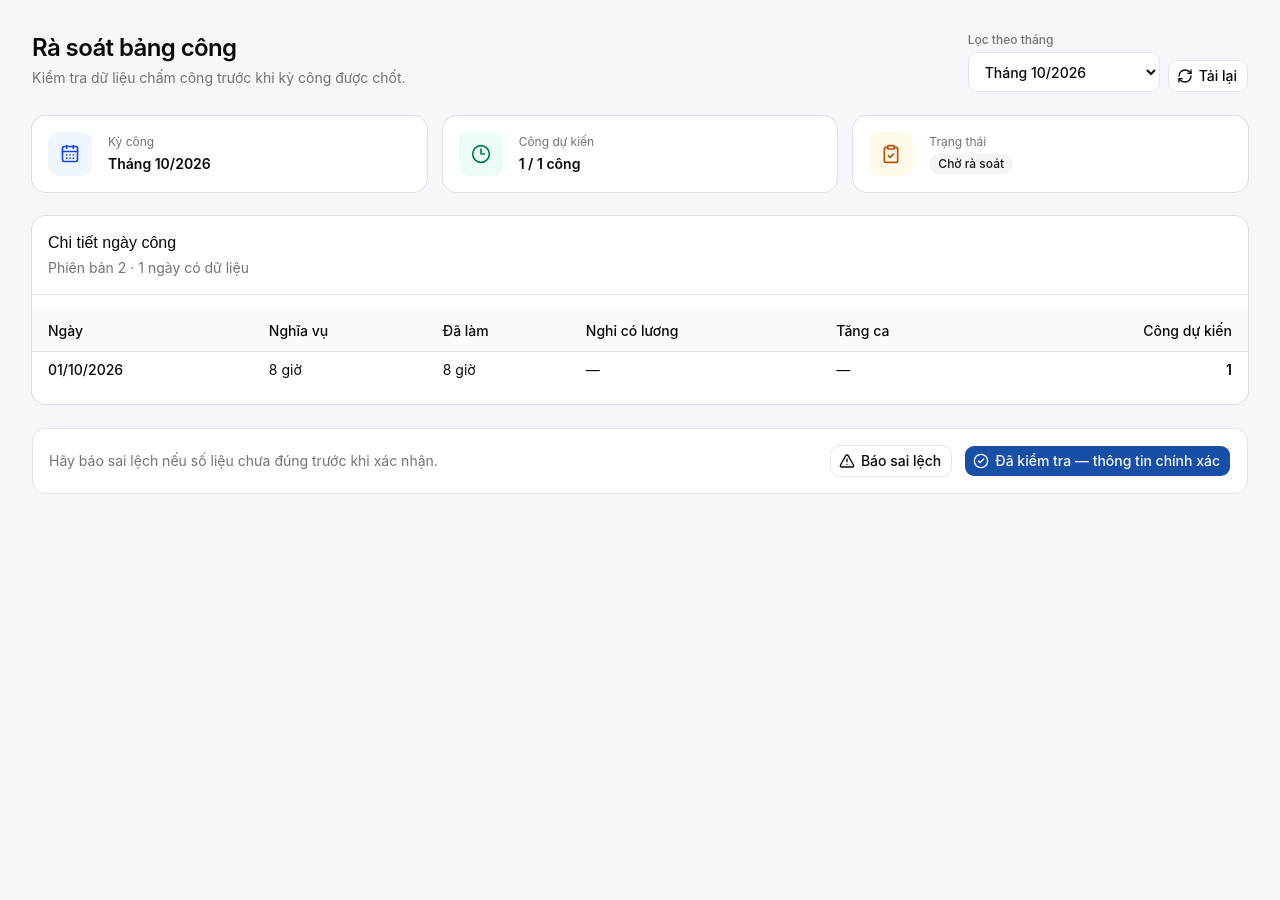
submits the reviewed version when the employee confirms
Click the button "Đã kiểm tra — thông tin chính xác": (1098, 460) x1=964 y1=444 x2=1231 y2=476
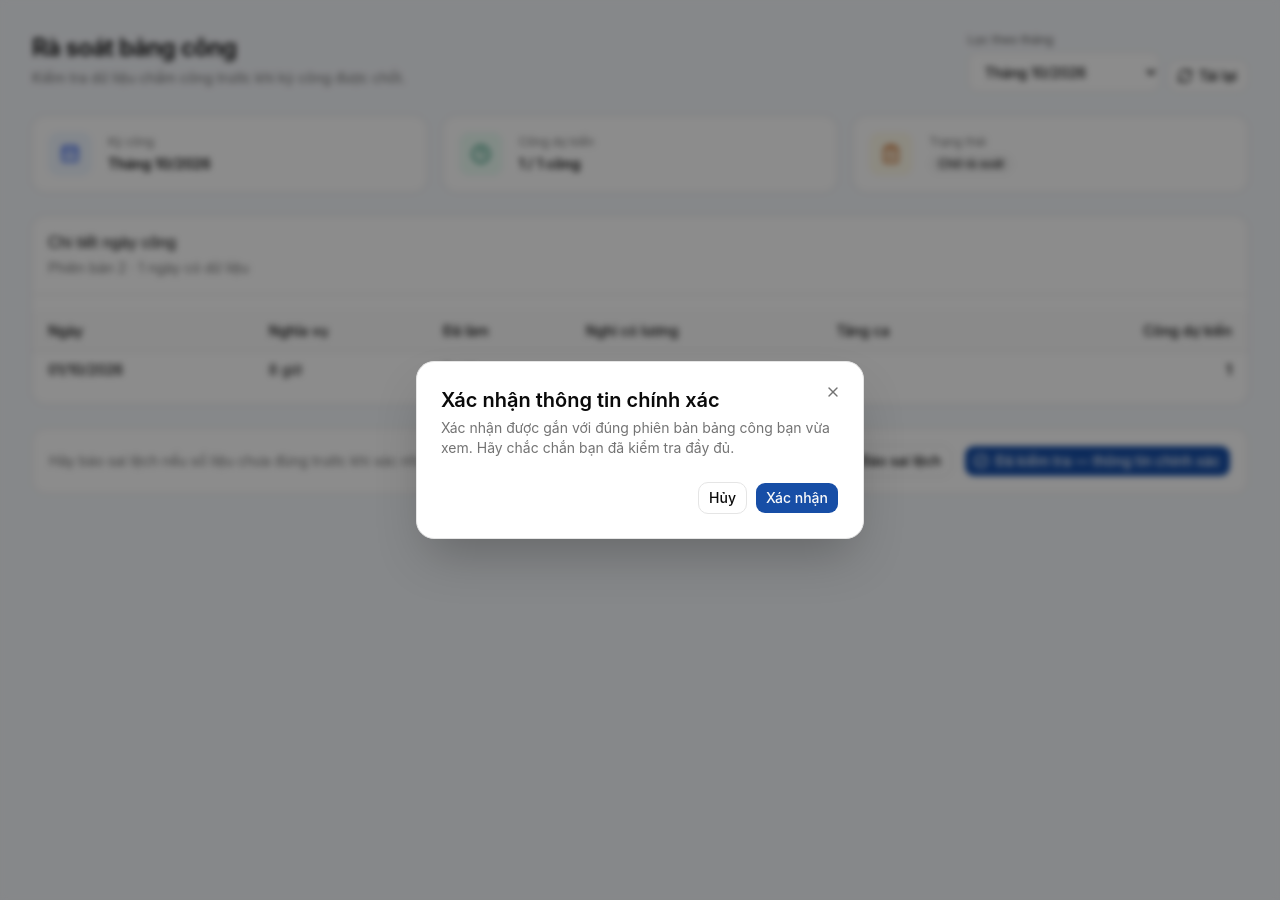
Click the button "Xác nhận": (797, 498) x1=755 y1=482 x2=839 y2=514
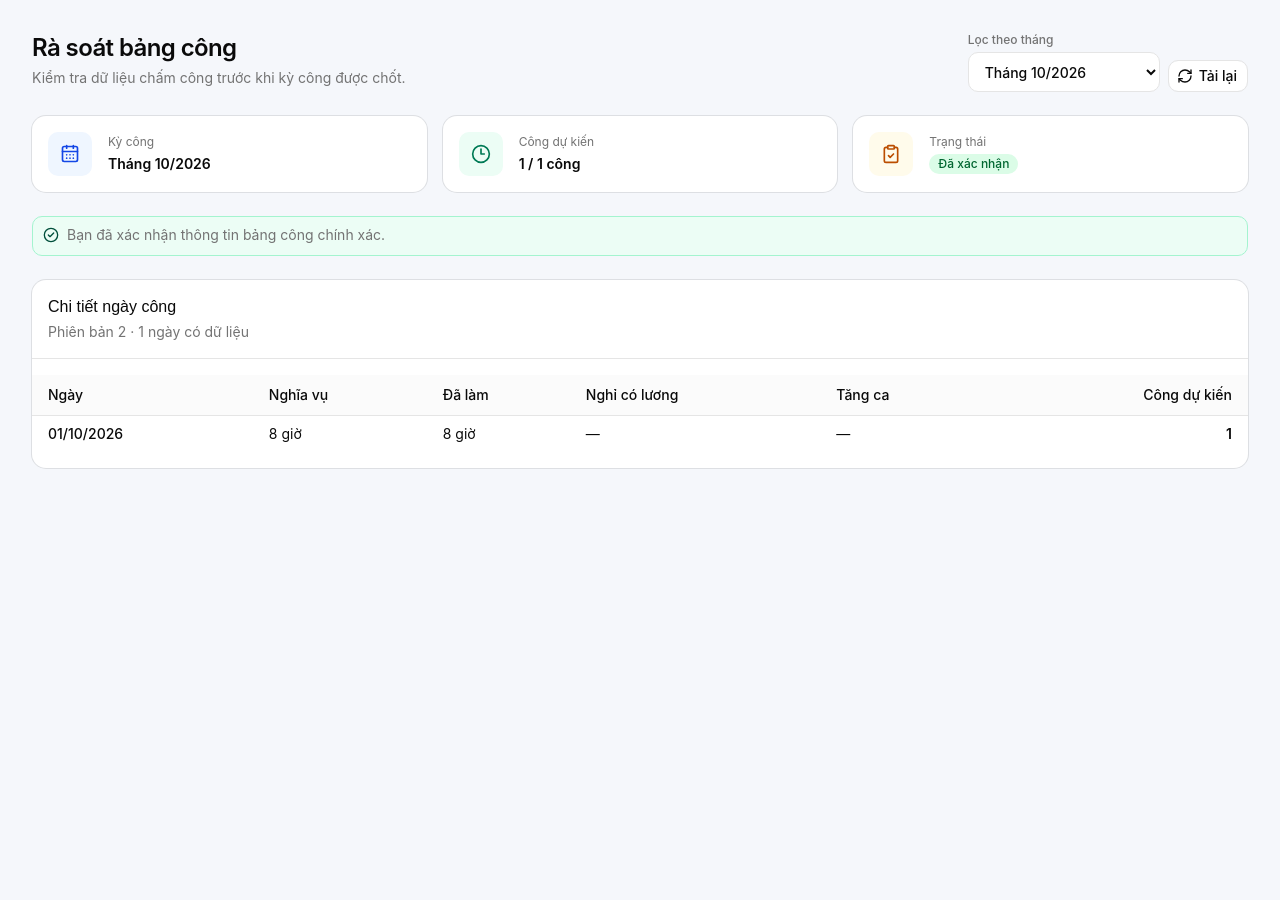
Result: the text "Bạn đã xác nhận thông tin bảng công chính xác." is shown at x1=67 y1=226 x2=385 y2=243
